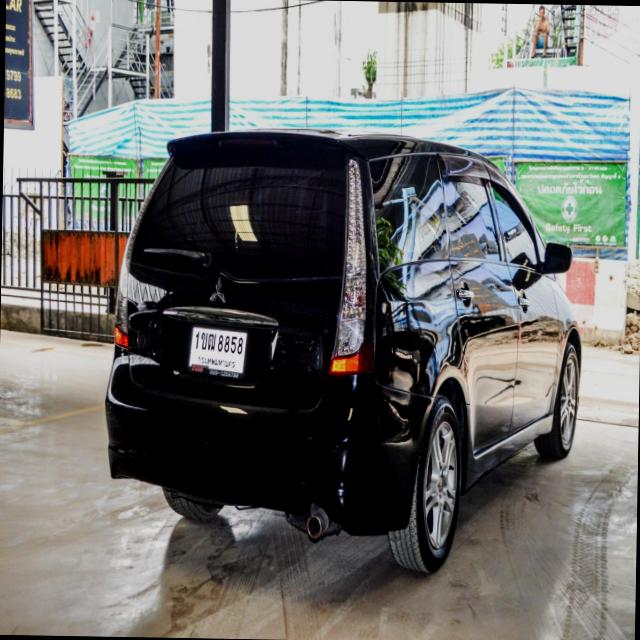license_plate: (182, 321, 250, 379)
